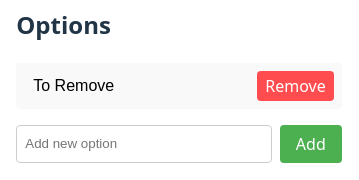
Test: OptionList.vue › allows removing an option
Expected: the field with class "edit-input" holds "To Remove", [24,71,249,101]
Click the button with class "remove-btn": (296,86) [257,71,334,101]
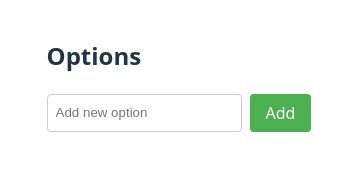
Now no fields with class "edit-input" are shown
